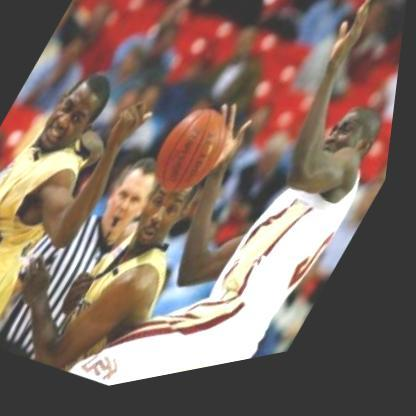basketball: (138, 95, 252, 225)
